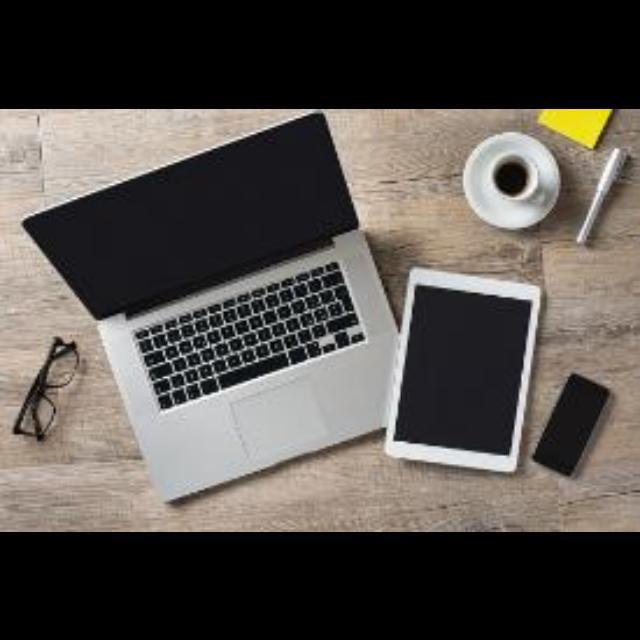PhoneUse: (386, 267, 544, 471), (538, 376, 620, 499)
